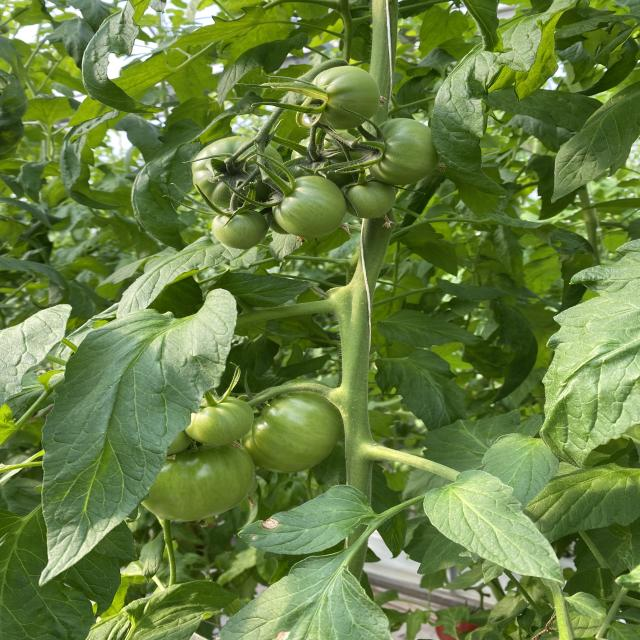yesil: (70, 346, 408, 546), (184, 103, 453, 251)
